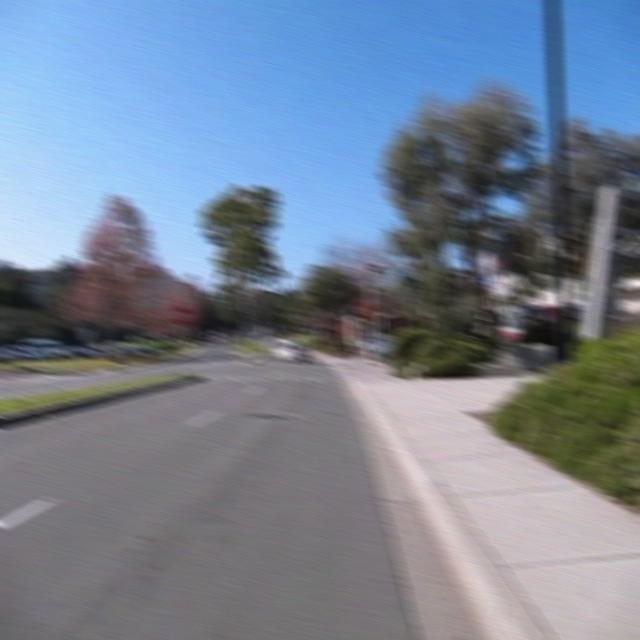stop_sign: (171, 304, 192, 327), (355, 298, 375, 321)
